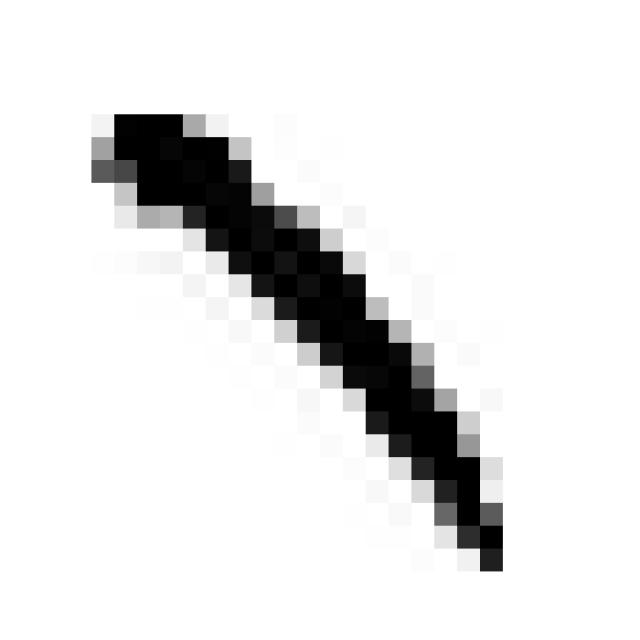1 -one-: (78, 84, 525, 590)
